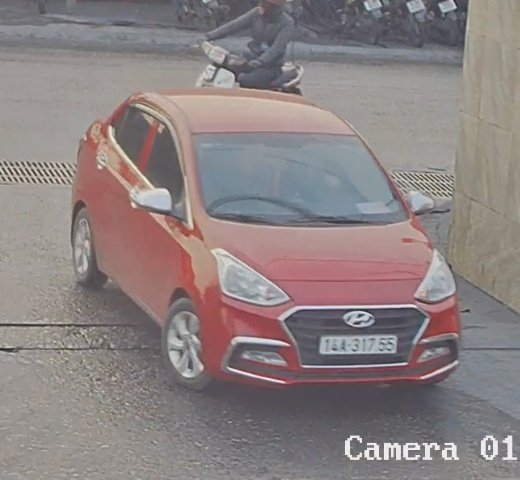vehicle plate: (313, 329, 401, 359)
